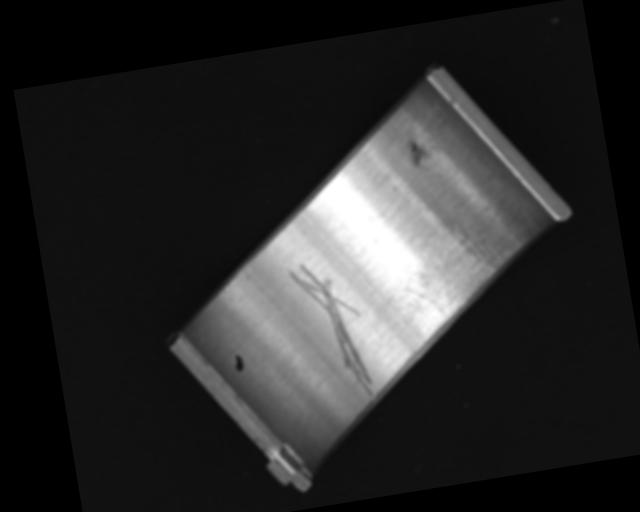blot: (231, 352, 245, 374)
bruise: (406, 138, 430, 170)
nick: (286, 255, 377, 416)
scratch: (386, 214, 530, 327)
